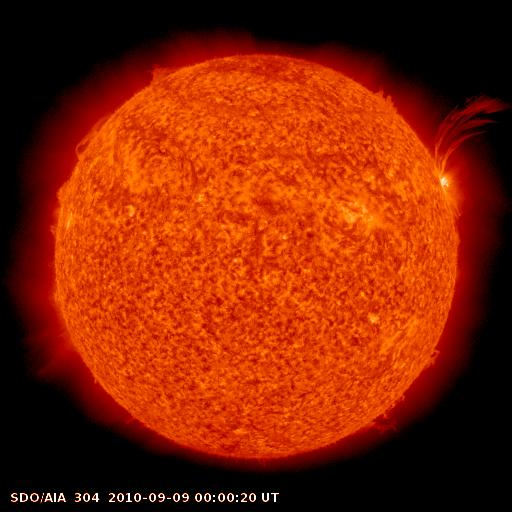prominence: (409, 84, 511, 189), (69, 97, 129, 164), (351, 388, 418, 439), (134, 55, 190, 93), (41, 171, 70, 244), (415, 336, 453, 377)
